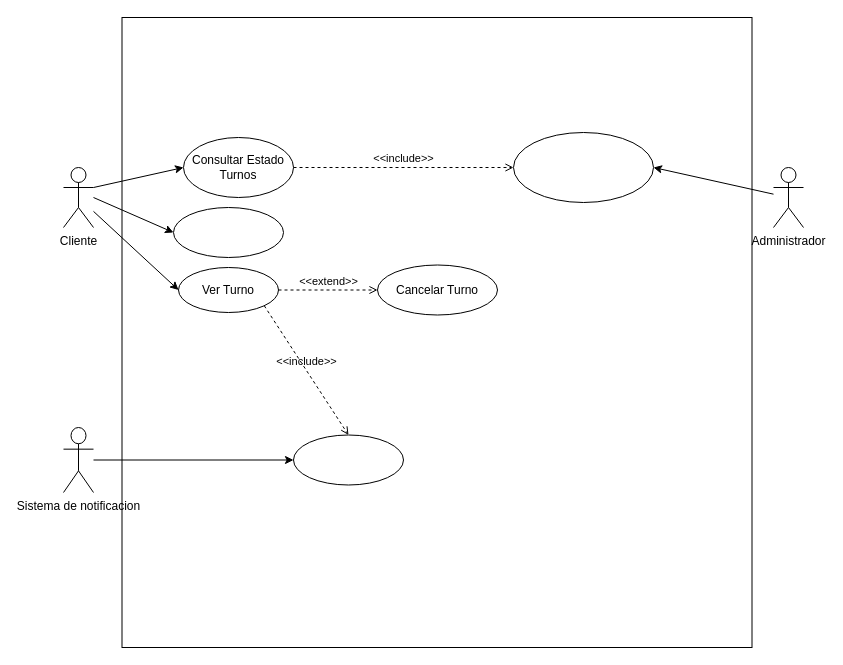
This 843x665 diagram has some shape labels left out. The shapes that lost their labels are listed below. From the top down, each one's centre as x and y in pixels, then its label:
At (583,167): "Administra disponibilidad de turnos".
At (228,232): "Tomar Turno".
At (348,459): "Notifica estado de turno".
